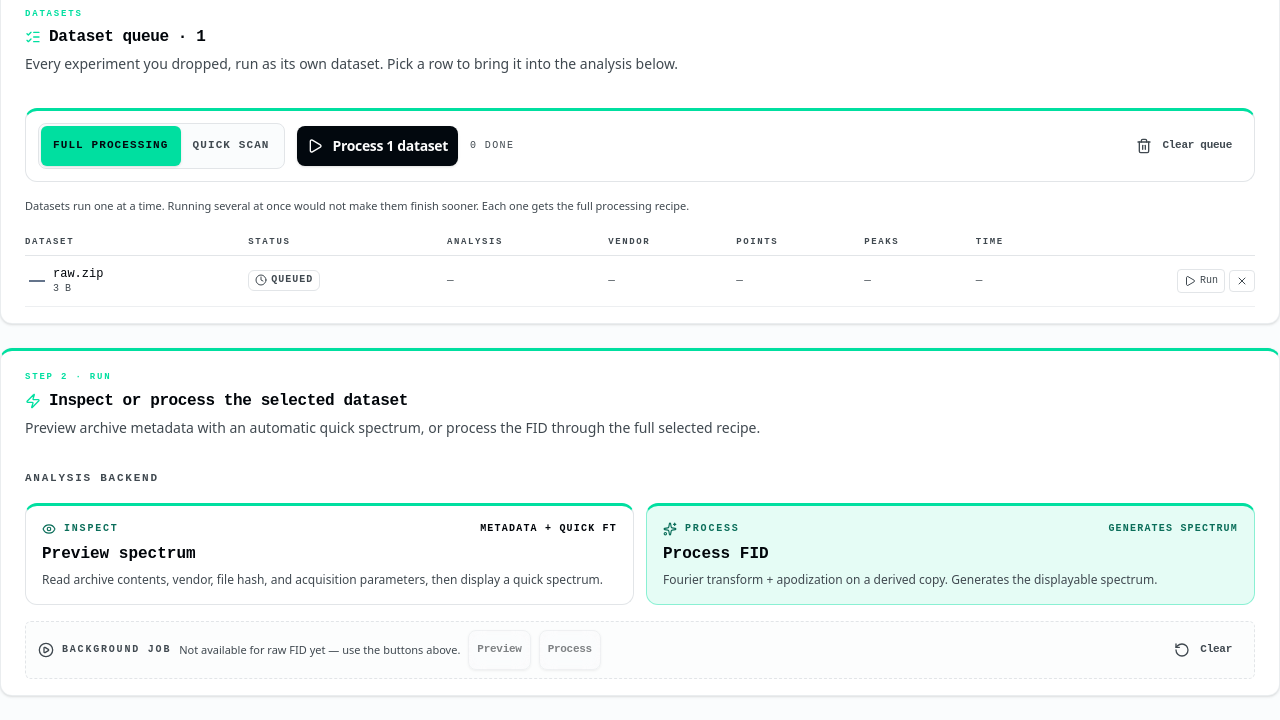
Test case: SpectraCheck preview rendering › raw FID process always calls the process endpoint after preview
Earlier steps of the test are not shown.
(page scrolled)
Click the button "Preview spectrum": (91, 528) x1=25 y1=503 x2=634 y2=605
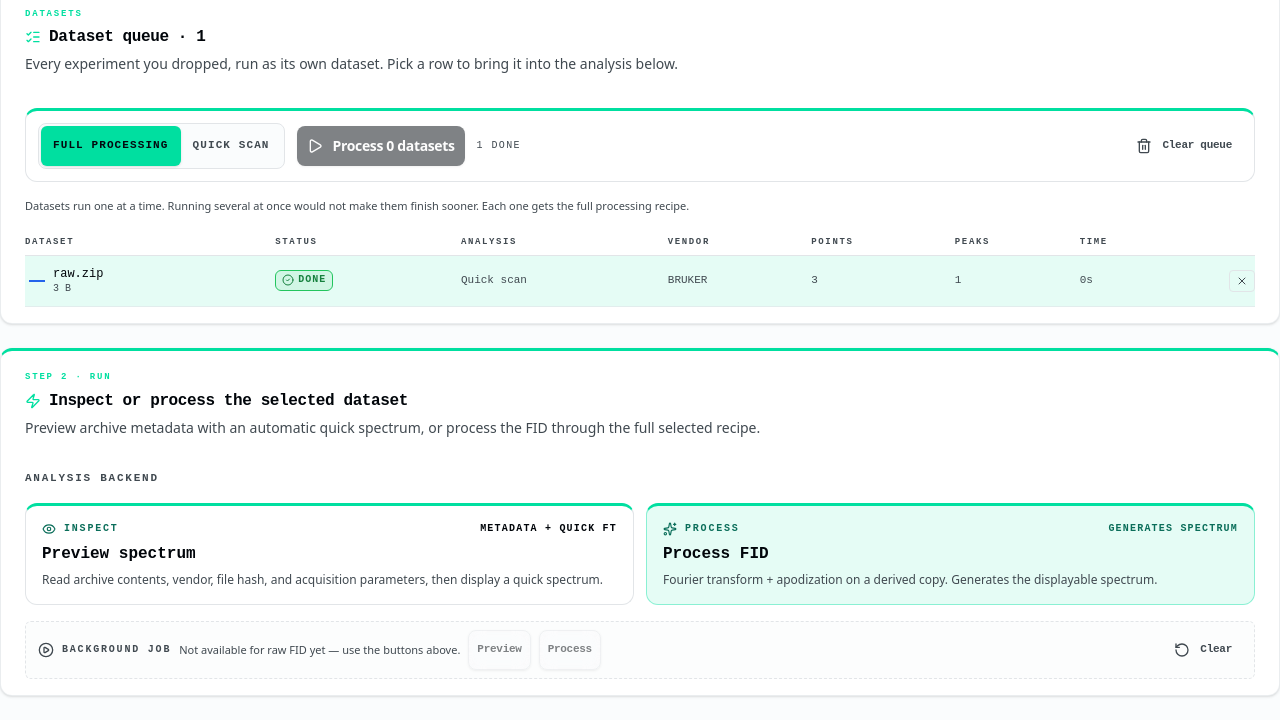
Click the button "Process FID": (712, 528) x1=646 y1=503 x2=1255 y2=605
(page scrolled)
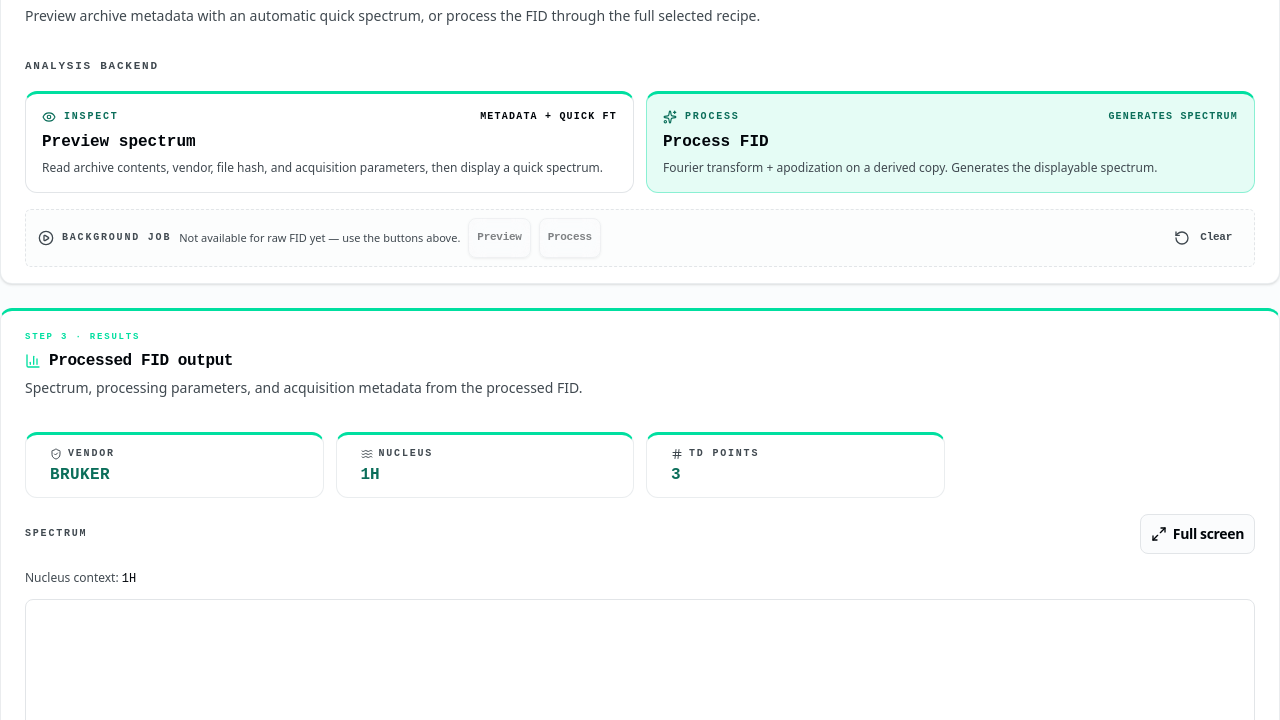
Result: the heading "Processed FID output" is shown at x1=49 y1=349 x2=233 y2=373
